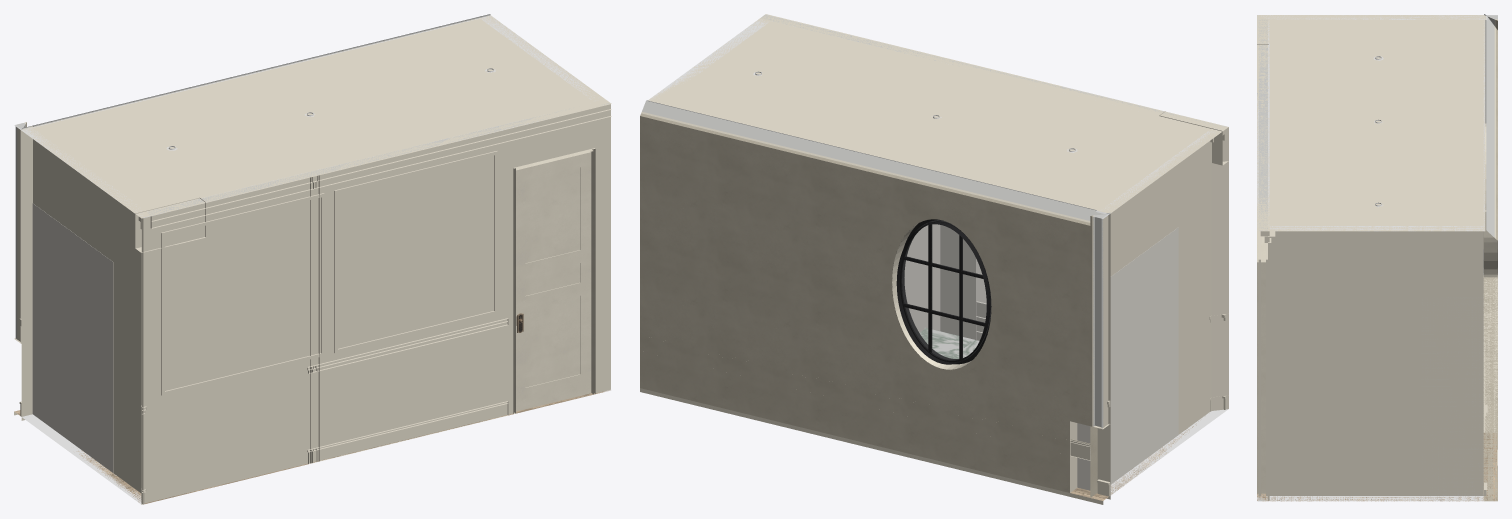
The model's file is primary-loli-closet-2ff0ddfa8772.glb.
3 renders of one model, left to right at view 1: azimuth 30°, elevation 25°; view 2: azimuth 150°, elevation 25°; view 3: azimuth 270°, elevation 25°, orthographic. The views are drawn at different scales.
Visible parts, largest first — view 1: primary-loli-closet-21ac2ed1b4475155, primary-loli-closet-9d91b47435c6fb33, primary-loli-closet-6d601da8073fdc0e, primary-loli-closet-77b772996f7f67b8, primary-loli-closet-69af8f587252f9fa, primary-loli-closet-e7983be95ab098c1, primary-loli-closet-e48b5483df8cacdb, primary-loli-closet-40ba494a131a1b09, primary-loli-closet-c8a93ab7b69c3b53, primary-loli-closet-9e6cdde78fc443e1, primary-loli-closet-08e5178be0cf1e43, primary-loli-closet-3a163573517a0810 (+8 smaller); view 2: primary-loli-closet-3763e2fb8578d282, primary-loli-closet-9d91b47435c6fb33, primary-loli-closet-3a806c711886e947, primary-loli-closet-69af8f587252f9fa, primary-loli-closet-77b772996f7f67b8, primary-loli-closet-bc6b014e2fd7351d, primary-loli-closet-91eb0f90e9e94d87, primary-loli-closet-28fa16303b99ff8f, primary-loli-closet-b503483da03aa295, primary-loli-closet-2575515a05775d9e, primary-loli-closet-254dccfc69fd7b68, primary-loli-closet-3a163573517a0810 (+10 smaller); view 3: primary-loli-closet-95b94d4b81cfb474, primary-loli-closet-9d91b47435c6fb33, primary-loli-closet-3a806c711886e947, primary-loli-closet-91eb0f90e9e94d87, primary-loli-closet-21ac2ed1b4475155, primary-loli-closet-9e6cdde78fc443e1, primary-loli-closet-3a163573517a0810, primary-loli-closet-2575515a05775d9e, primary-loli-closet-4717698be62d0b44, primary-loli-closet-947ece252fc5b1be, primary-loli-closet-942c52dd436cf41a, primary-loli-closet-3763e2fb8578d282 (+6 smaller).
Boxes of the visible parts, x1=… form: primary-loli-closet-21ac2ed1b4475155: x1=142, y1=103, x2=611, y2=504; primary-loli-closet-9d91b47435c6fb33: x1=21, y1=15, x2=610, y2=218; primary-loli-closet-6d601da8073fdc0e: x1=516, y1=152, x2=591, y2=411; primary-loli-closet-77b772996f7f67b8: x1=32, y1=203, x2=113, y2=472; primary-loli-closet-69af8f587252f9fa: x1=22, y1=128, x2=142, y2=504; primary-loli-closet-e7983be95ab098c1: x1=20, y1=15, x2=490, y2=343; primary-loli-closet-e48b5483df8cacdb: x1=310, y1=175, x2=319, y2=462; primary-loli-closet-40ba494a131a1b09: x1=161, y1=193, x2=324, y2=395; primary-loli-closet-c8a93ab7b69c3b53: x1=334, y1=151, x2=497, y2=353; primary-loli-closet-9e6cdde78fc443e1: x1=513, y1=148, x2=595, y2=413; primary-loli-closet-08e5178be0cf1e43: x1=150, y1=103, x2=611, y2=228; primary-loli-closet-3a163573517a0810: x1=141, y1=98, x2=603, y2=211; primary-loli-closet-3763e2fb8578d282: x1=640, y1=113, x2=1092, y2=426; primary-loli-closet-9d91b47435c6fb33: x1=647, y1=15, x2=1228, y2=214; primary-loli-closet-3a806c711886e947: x1=640, y1=316, x2=1077, y2=492; primary-loli-closet-69af8f587252f9fa: x1=1099, y1=127, x2=1228, y2=495; primary-loli-closet-77b772996f7f67b8: x1=1077, y1=227, x2=1178, y2=490; primary-loli-closet-bc6b014e2fd7351d: x1=902, y1=220, x2=990, y2=360; primary-loli-closet-91eb0f90e9e94d87: x1=642, y1=100, x2=1107, y2=220; primary-loli-closet-28fa16303b99ff8f: x1=924, y1=224, x2=986, y2=340; primary-loli-closet-b503483da03aa295: x1=892, y1=219, x2=991, y2=364; primary-loli-closet-2575515a05775d9e: x1=640, y1=388, x2=1198, y2=504; primary-loli-closet-254dccfc69fd7b68: x1=1093, y1=215, x2=1103, y2=428; primary-loli-closet-3a163573517a0810: x1=757, y1=18, x2=1213, y2=142; primary-loli-closet-95b94d4b81cfb474: x1=1269, y1=226, x2=1483, y2=501; primary-loli-closet-9d91b47435c6fb33: x1=1257, y1=14, x2=1487, y2=231; primary-loli-closet-3a806c711886e947: x1=1483, y1=275, x2=1497, y2=501; primary-loli-closet-91eb0f90e9e94d87: x1=1485, y1=15, x2=1494, y2=432; primary-loli-closet-21ac2ed1b4475155: x1=1257, y1=15, x2=1269, y2=501; primary-loli-closet-9e6cdde78fc443e1: x1=1257, y1=236, x2=1265, y2=493; primary-loli-closet-3a163573517a0810: x1=1268, y1=19, x2=1275, y2=242; primary-loli-closet-2575515a05775d9e: x1=1257, y1=433, x2=1497, y2=501; primary-loli-closet-4717698be62d0b44: x1=1421, y1=297, x2=1483, y2=495; primary-loli-closet-947ece252fc5b1be: x1=1484, y1=123, x2=1497, y2=277; primary-loli-closet-942c52dd436cf41a: x1=1258, y1=243, x2=1260, y2=495; primary-loli-closet-3763e2fb8578d282: x1=1496, y1=20, x2=1497, y2=432.
Size of the model in its own units: 4.98 by 2.95 by 2.34.
Materials: 22 (5 with a texture image).
